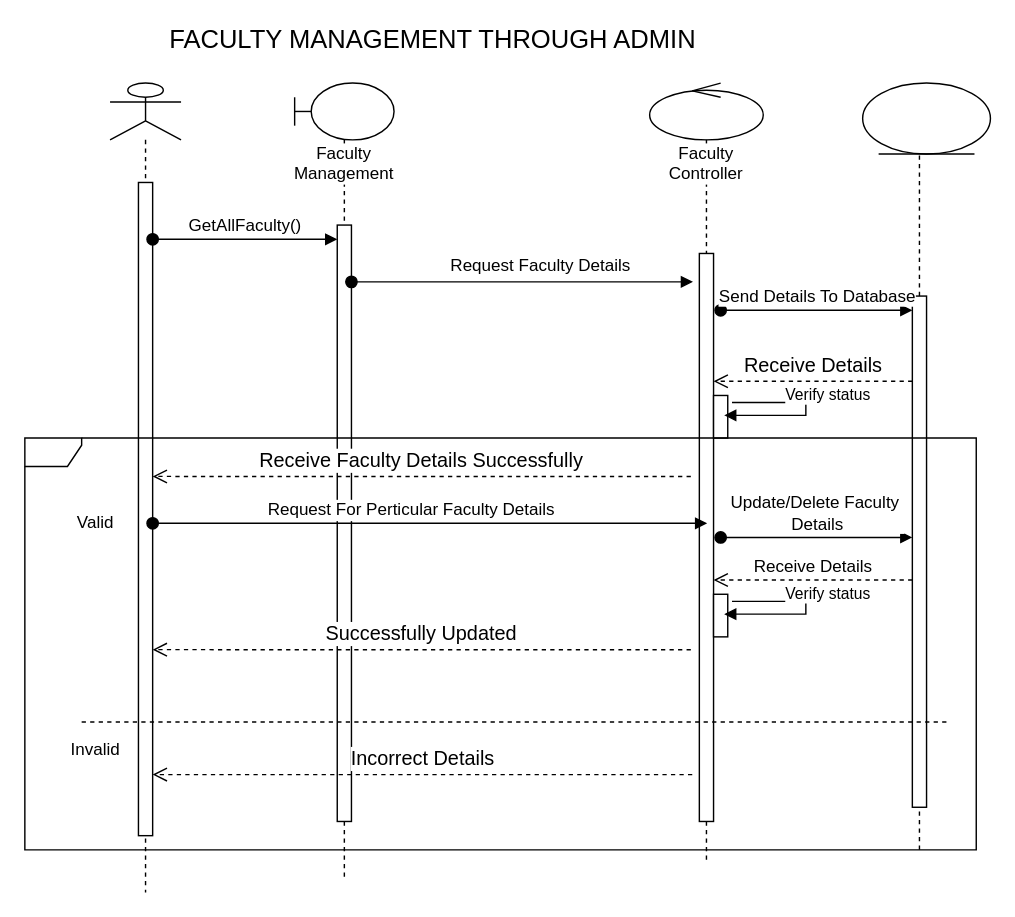
The diagram is 1015 pixels wide and 917 high, and some of its shapes have lost their labels. The shapes that lost their labels are listed below. From the top down, each one's centre as x and y in pixels, then its label:
At point 925,118: "User database".
At point 499,643: "Alt".
